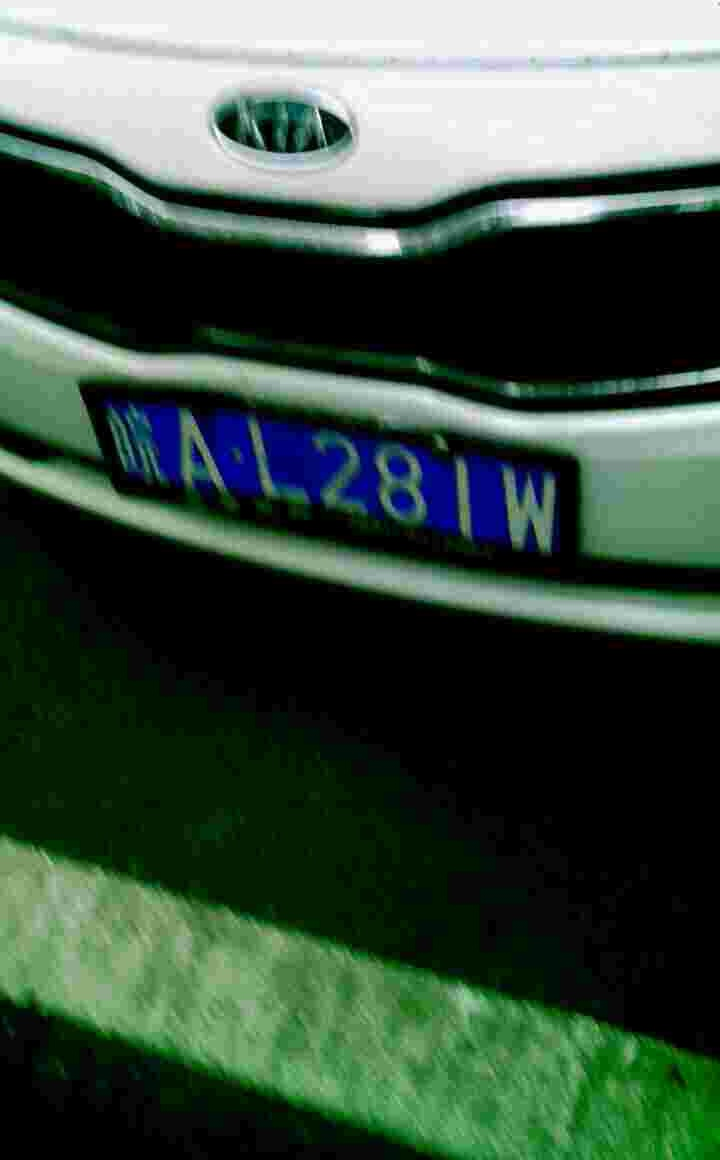license_plate: (112, 398, 589, 560)
